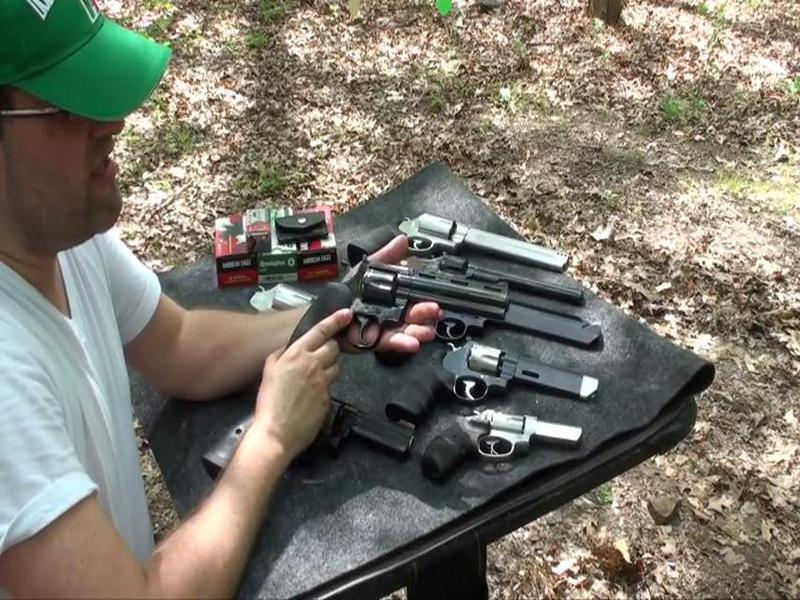Revolver: (282, 254, 507, 385)
